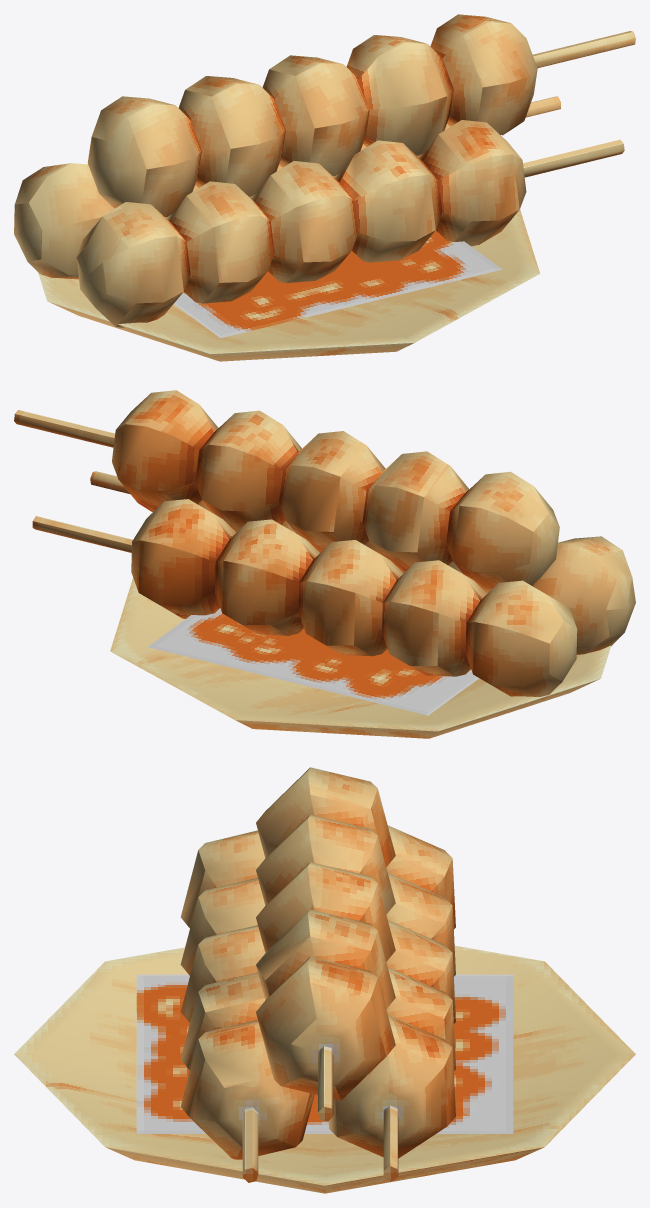
Rendered from dango.glb.
3 views of the same model, one above another, from view 1: azimuth 30°, elevation 25°; view 2: azimuth 150°, elevation 25°; view 3: azimuth 270°, elevation 25° (orthographic). The views are drawn at different scales.
Visible parts, largest first — view 1: mesh; view 2: mesh; view 3: mesh.
Boxes of the visible parts, box(x1,y1,x2,y2) form: mesh: box(14, 14, 635, 361); mesh: box(14, 390, 635, 738); mesh: box(14, 767, 635, 1193).
Bounding box in the file's own units: 0.3147 × 0.12 × 0.2505.
Materials: 1 (1 with a texture image).
